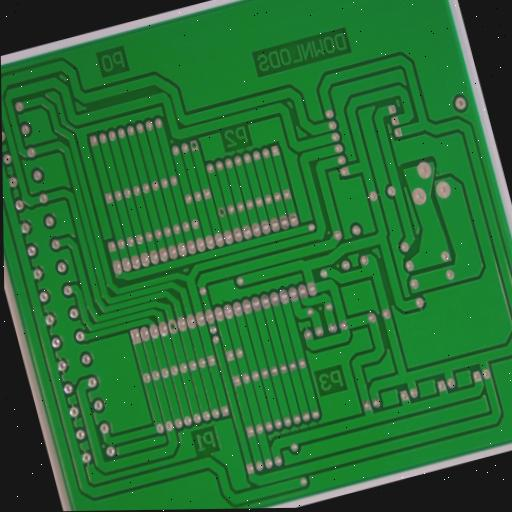missing_hole: (166, 318, 180, 336), (215, 204, 228, 221), (188, 138, 201, 154)
